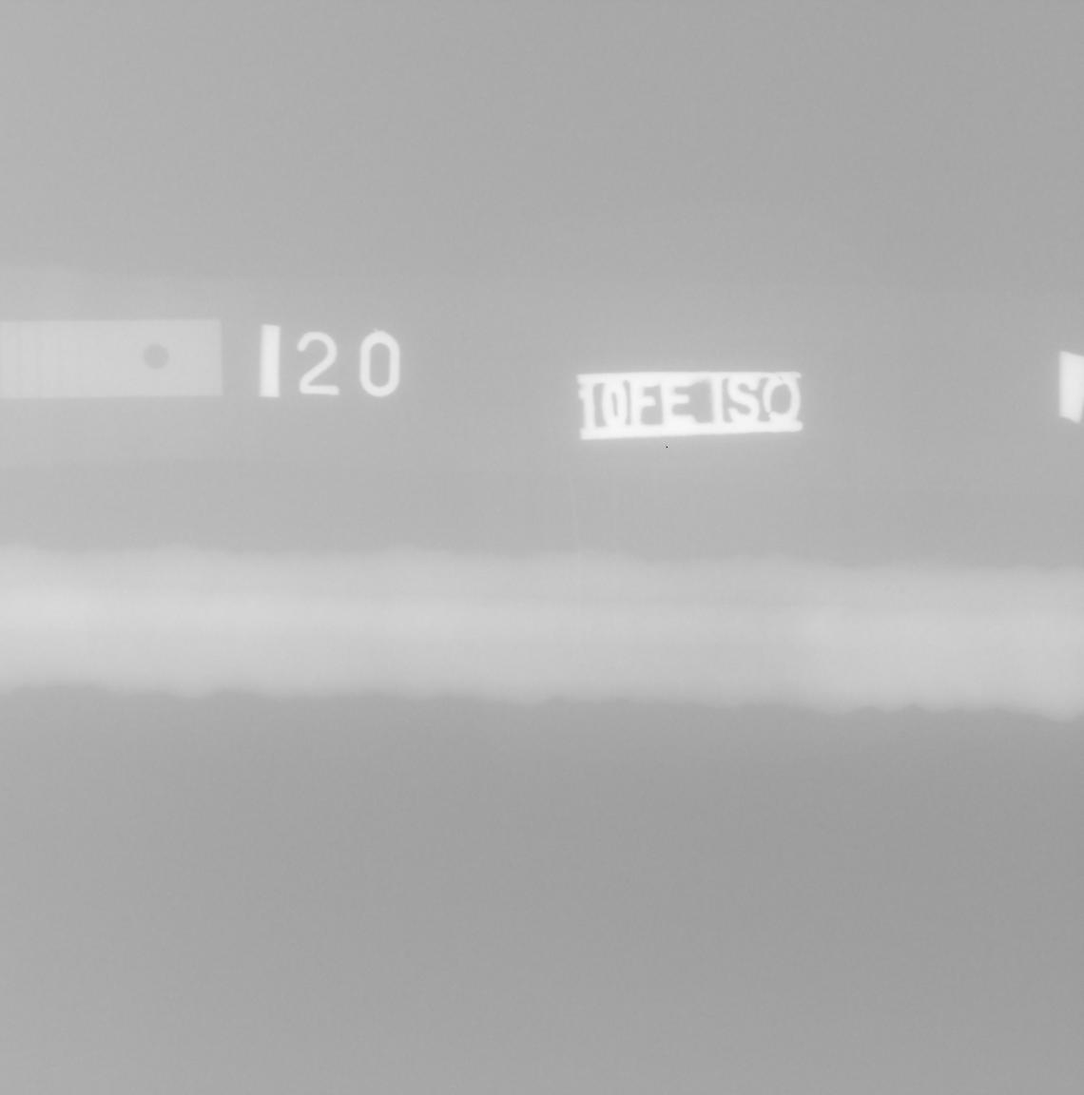Pore/Porosity: (923, 627, 931, 635), (884, 585, 892, 591), (88, 651, 97, 655), (898, 589, 904, 592), (596, 624, 600, 627)
